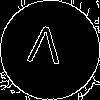V: (25, 25, 63, 74)
